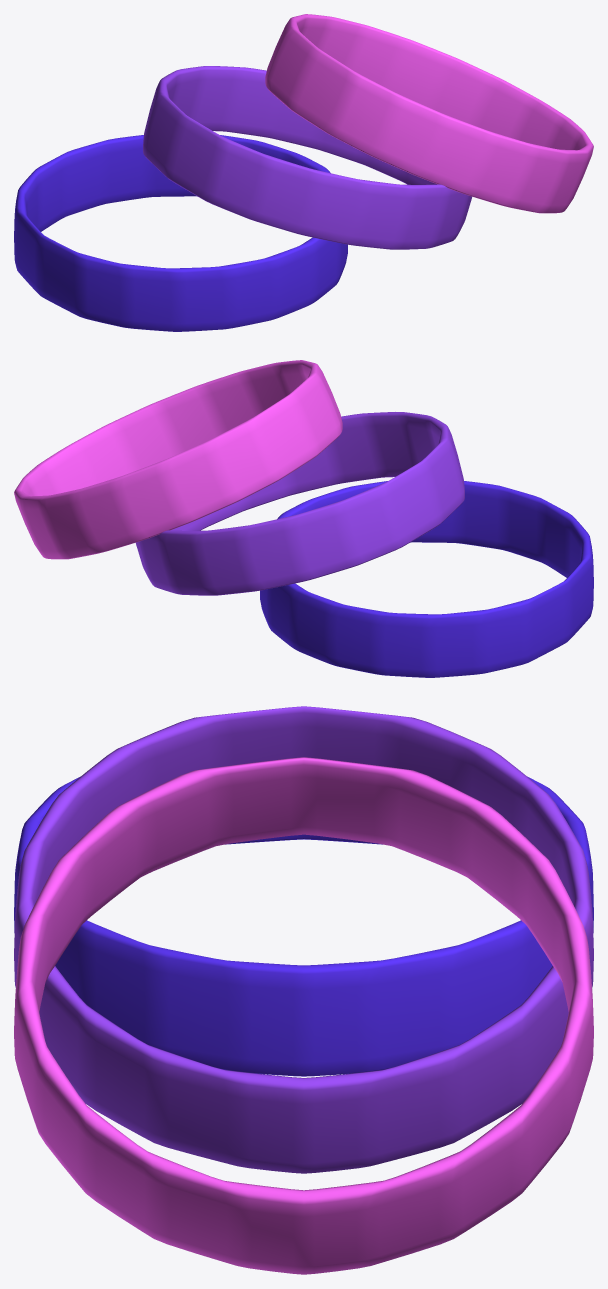
Rendered from wrist-bands.glb.
3 views of the same model, one above another, from view 1: azimuth 30°, elevation 25°; view 2: azimuth 150°, elevation 25°; view 3: azimuth 270°, elevation 25° (orthographic). The views are drawn at different scales.
Parts seen in each view (by area): view 1: pCylinder88; view 2: pCylinder88; view 3: pCylinder88.
Part boxes in pixels (left/top/right/bottom): pCylinder88: left=14, top=14, right=593, bottom=331; pCylinder88: left=14, top=360, right=593, bottom=677; pCylinder88: left=14, top=706, right=593, bottom=1274.
Bounding box in the file's own units: 0.0397 × 0.0133 × 0.0216.
